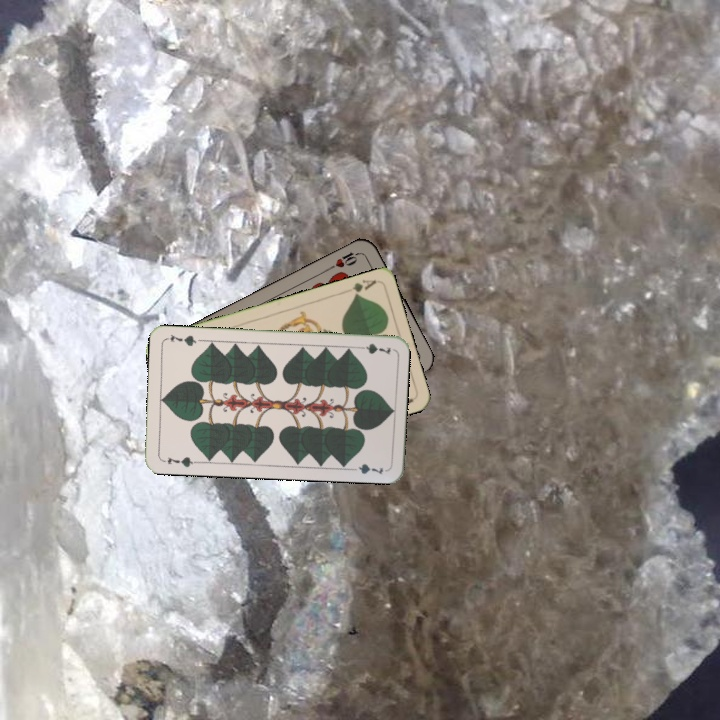G7: (353, 339, 393, 357), (159, 453, 200, 470)
GA: (348, 275, 379, 300)
H10: (325, 248, 364, 272)
